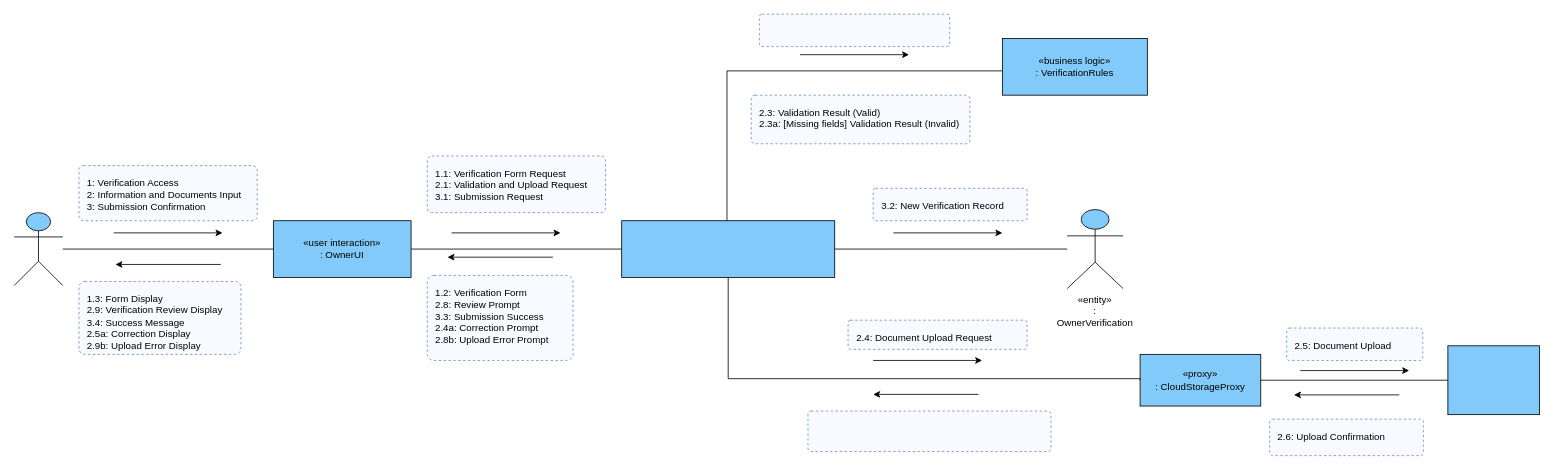
This 1554x470 diagram has some shape labels left out. The box of each missing label's shape, as (x1, y1, x2, y2) in pixels:
2.2: Required Fields Validation Check: (759, 13, 950, 47)
2.7: Upload Result (Success) 2.7b: [Storage unavailable] Upload Result (Failure): (807, 410, 1051, 452)
Cloud Storage: (1447, 345, 1539, 415)
Owner: (13, 212, 63, 286)
«coordinator» : SubmitVerificationCoordinator: (621, 220, 835, 277)
